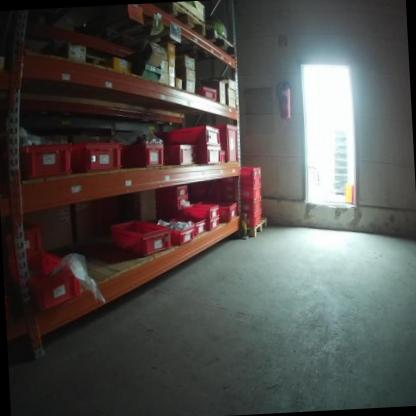pallet: (83, 2, 208, 62), (156, 26, 238, 66), (240, 212, 270, 238)
small_load_carrier: (24, 262, 85, 310), (112, 216, 173, 256), (19, 138, 72, 178), (73, 137, 124, 174), (4, 220, 45, 260), (163, 123, 220, 149), (120, 139, 164, 171), (217, 119, 241, 166), (163, 142, 198, 169), (170, 215, 207, 237), (172, 219, 196, 247), (180, 202, 221, 218), (195, 144, 219, 167), (194, 84, 218, 105), (217, 203, 240, 224), (243, 211, 266, 229), (239, 197, 266, 212), (238, 185, 265, 199), (238, 165, 261, 177), (238, 176, 264, 186), (205, 217, 222, 232)
